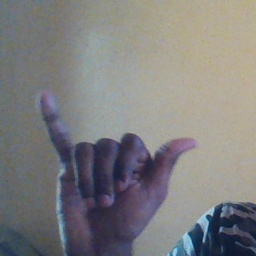J: (32, 91, 198, 239)
